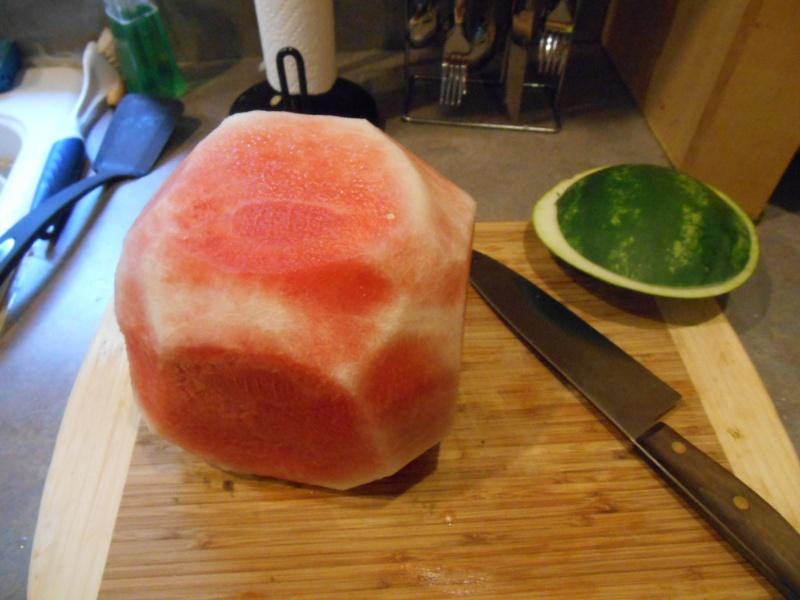knife: (466, 247, 800, 594)
